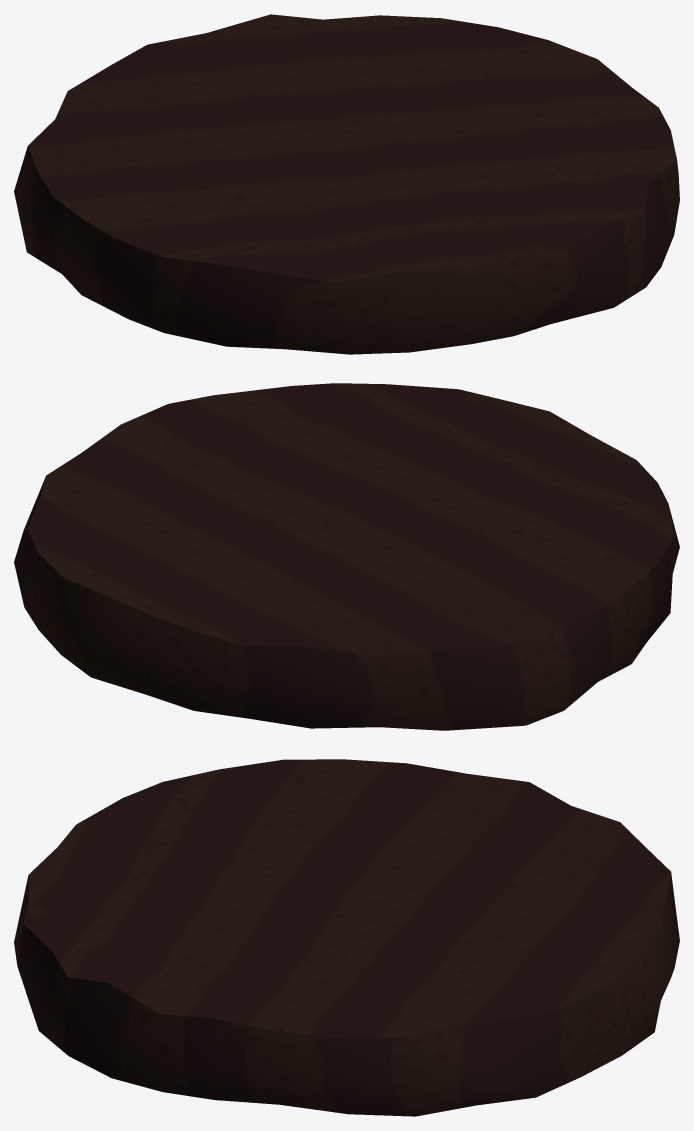
File: Burger bøf.fbx
3 views of the same model, one above another, from view 1: azimuth 30°, elevation 25°; view 2: azimuth 150°, elevation 25°; view 3: azimuth 270°, elevation 25° (orthographic). The views are drawn at different scales.
Parts seen in each view (by area): view 1: Cylinder; view 2: Cylinder; view 3: Cylinder.
Boxes of the visible parts, x1,y1,x2,y2 form: Cylinder: (14,14,679,354); Cylinder: (14,383,679,730); Cylinder: (14,759,679,1116).
Bounding box in the file's own units: 203 × 32.52 × 201.
Materials: 1 (1 with a texture image).
